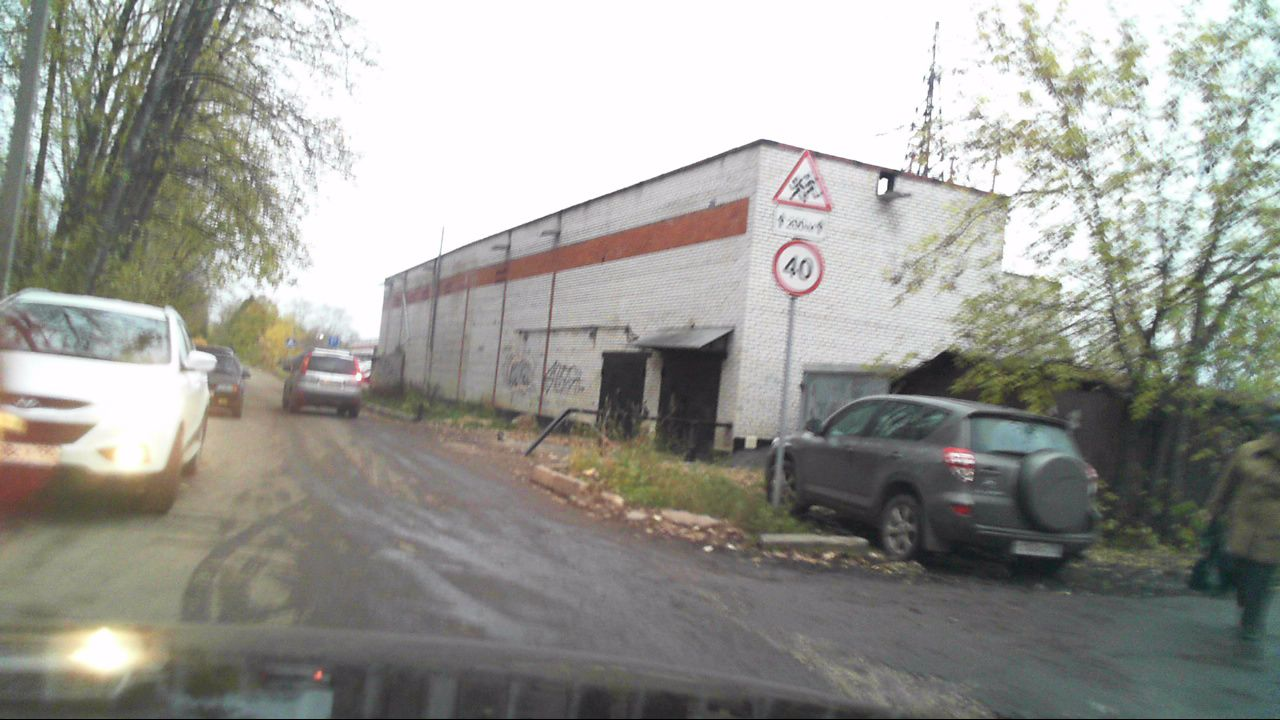speed_warning_40: (773, 241, 823, 295)
